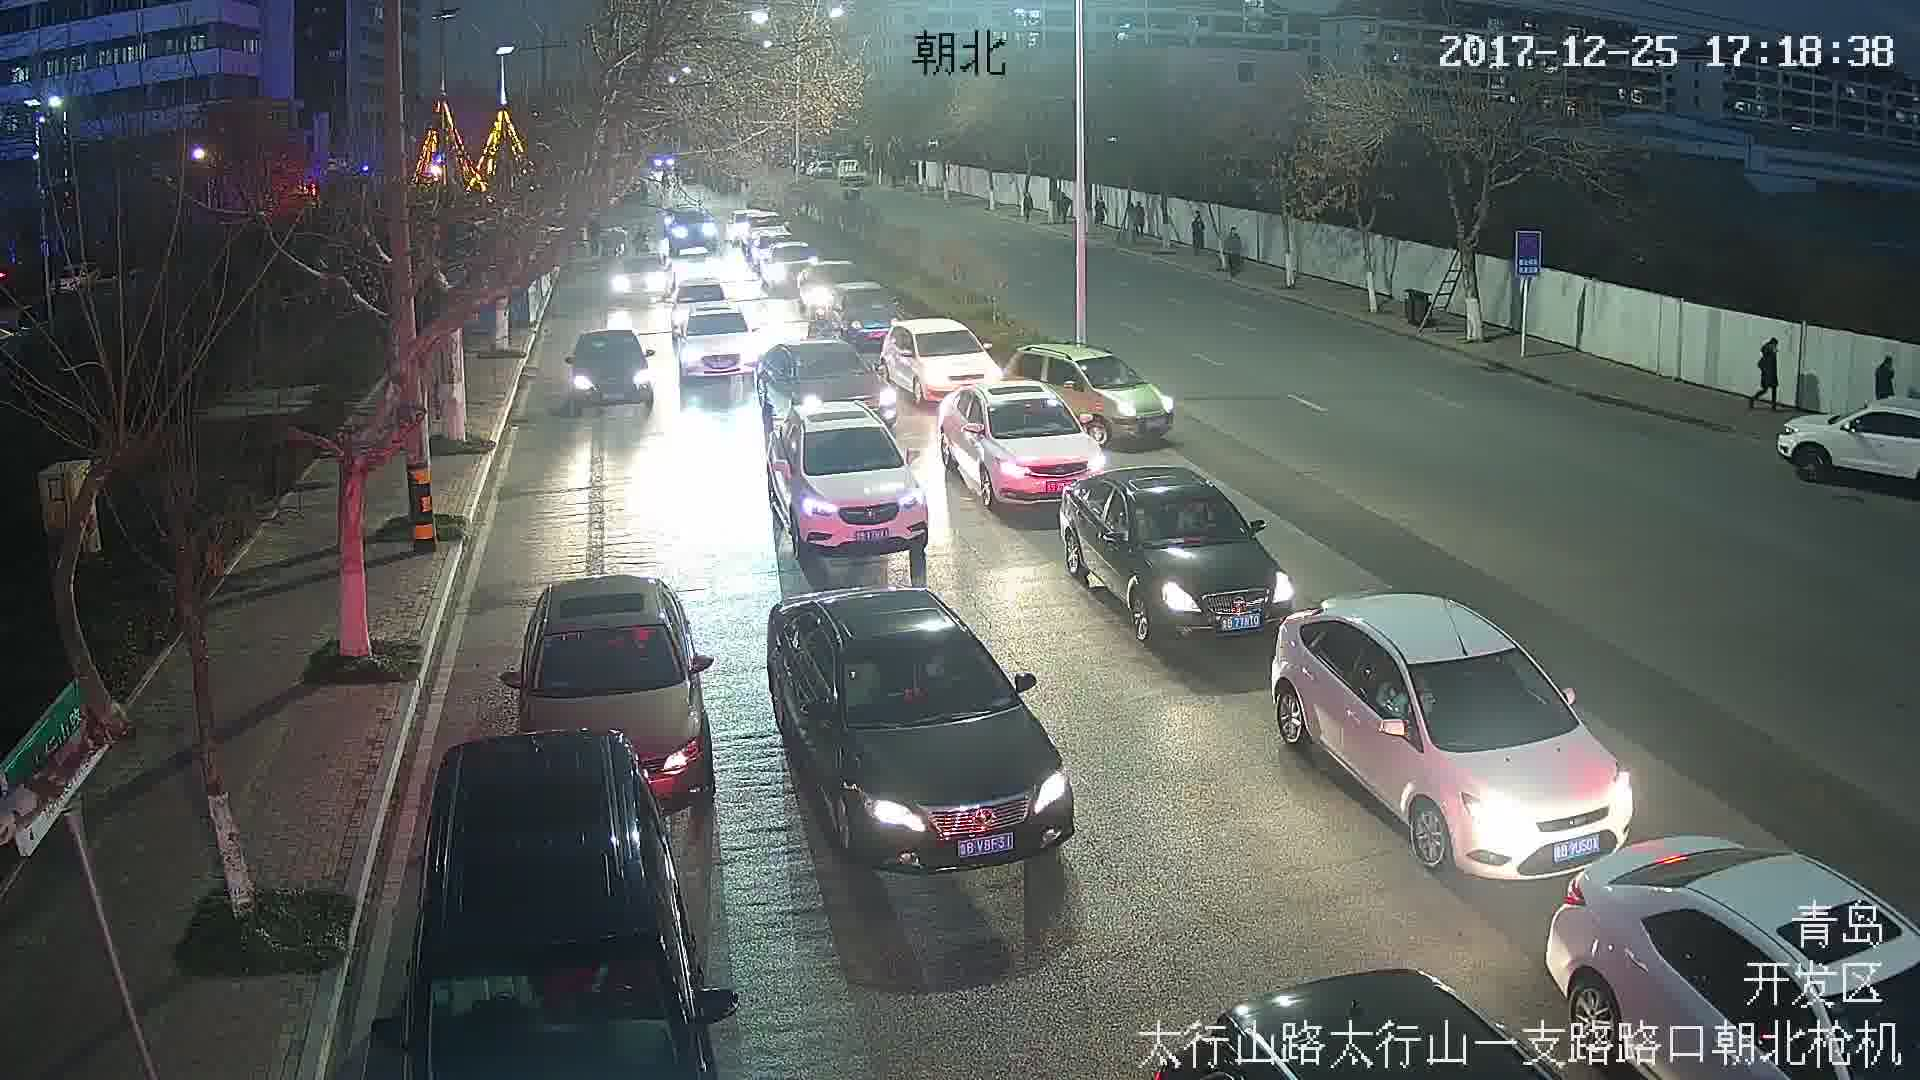car: (1271, 596, 1638, 882), (762, 588, 1073, 874), (499, 574, 720, 813), (1067, 471, 1300, 645), (942, 384, 1132, 499), (773, 416, 925, 557), (1012, 338, 1181, 441), (885, 320, 1003, 394), (563, 330, 657, 417), (680, 306, 753, 380)
person: (1750, 335, 1782, 409), (1870, 346, 1899, 398)
